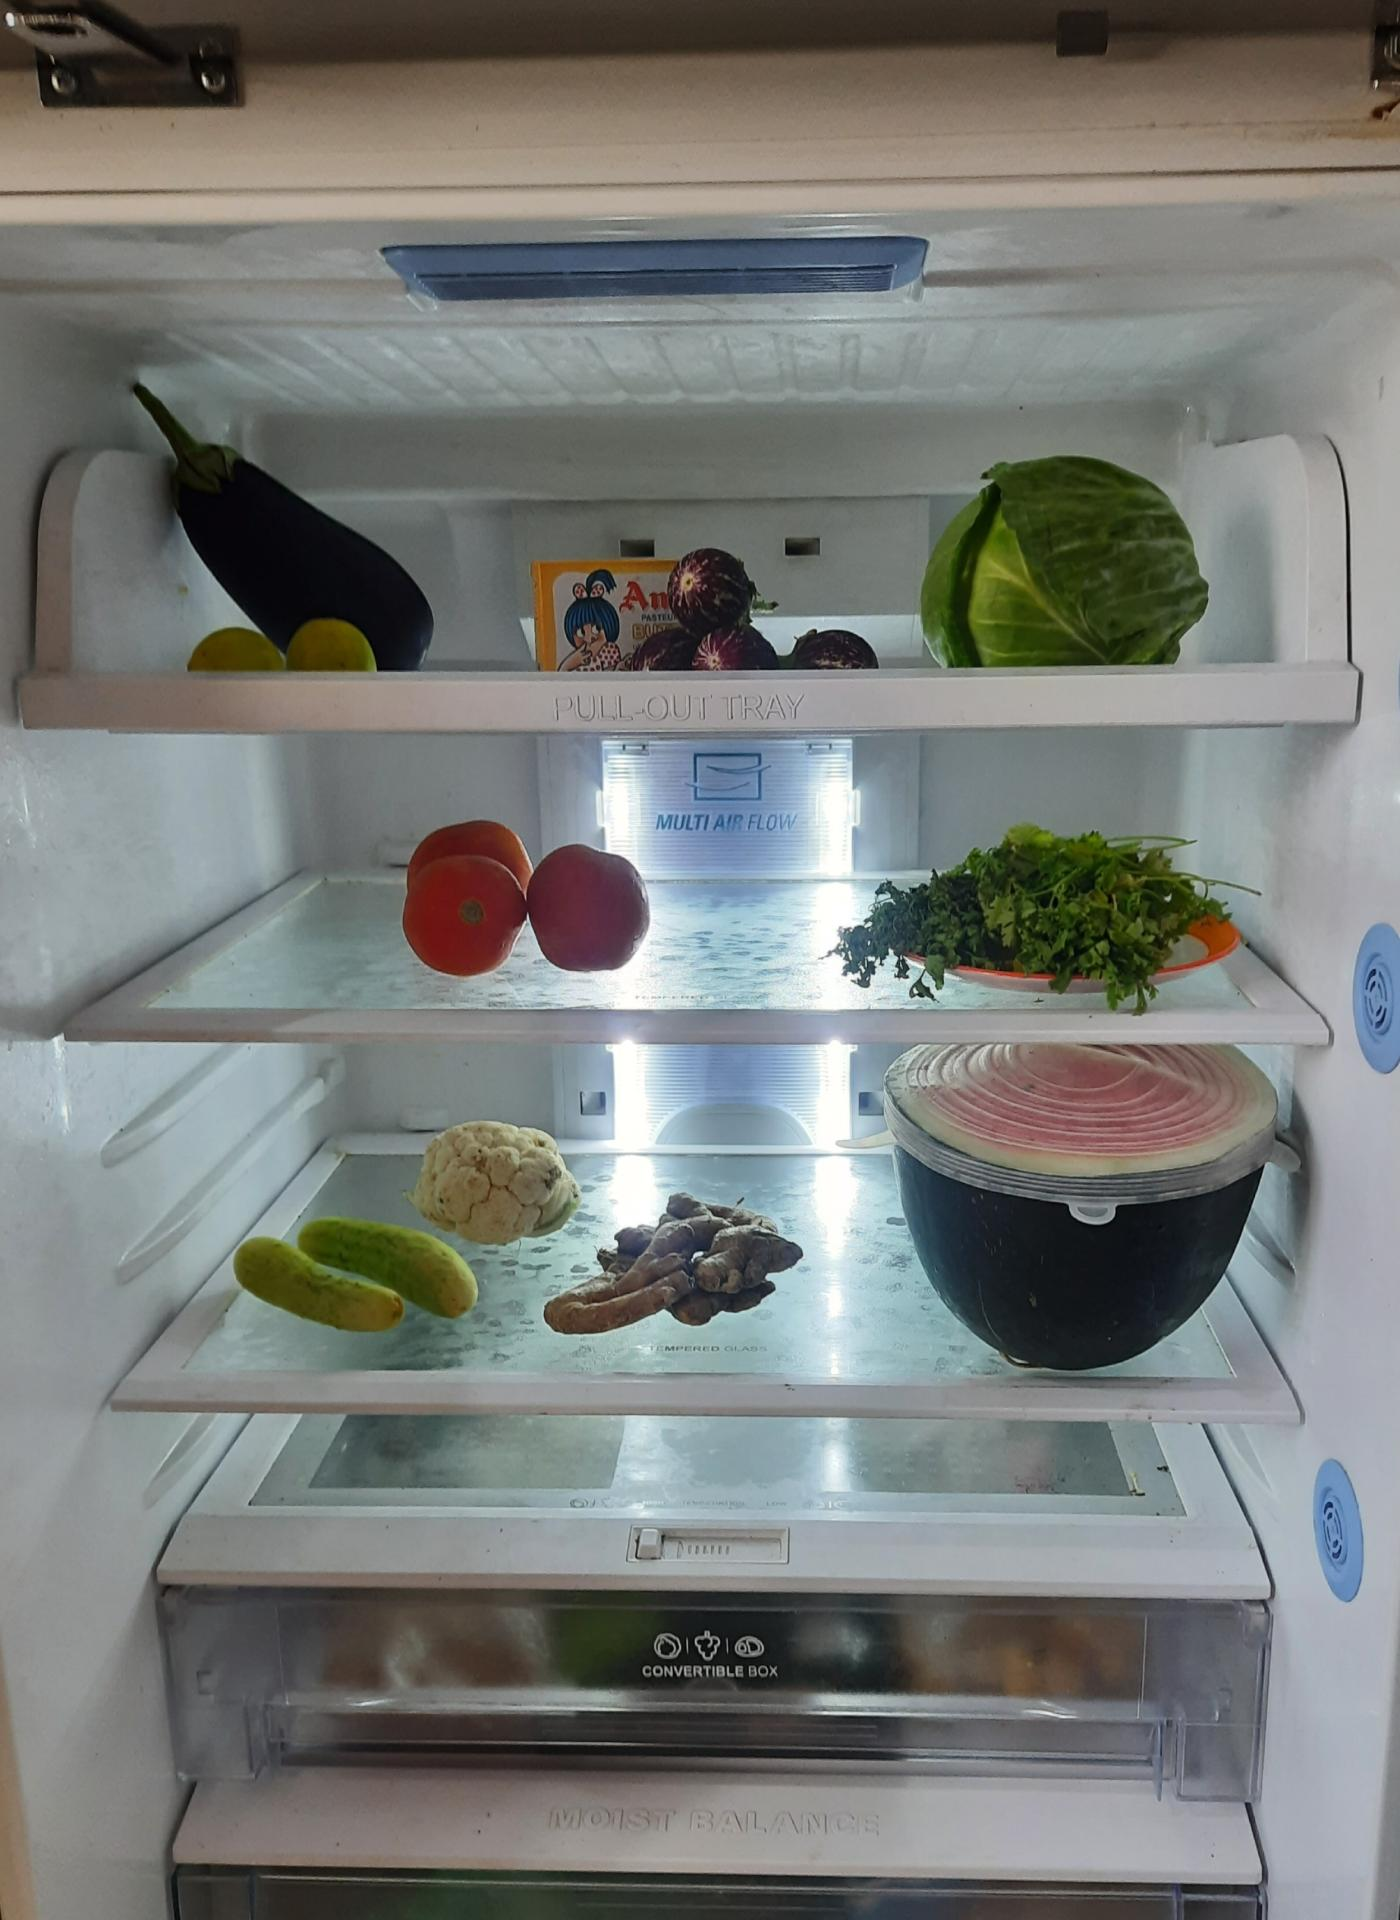brinjal: (124, 377, 438, 665), (625, 549, 895, 669)
butter: (528, 556, 693, 666)
cabbage: (921, 444, 1218, 663)
cauliflower: (409, 1115, 581, 1249)
coriander: (841, 823, 1233, 997)
cucumber: (221, 1215, 483, 1345)
ginger: (544, 1193, 802, 1334)
lemon: (188, 608, 377, 674)
tomato: (401, 809, 649, 970)
watermelon: (868, 1049, 1281, 1370)
